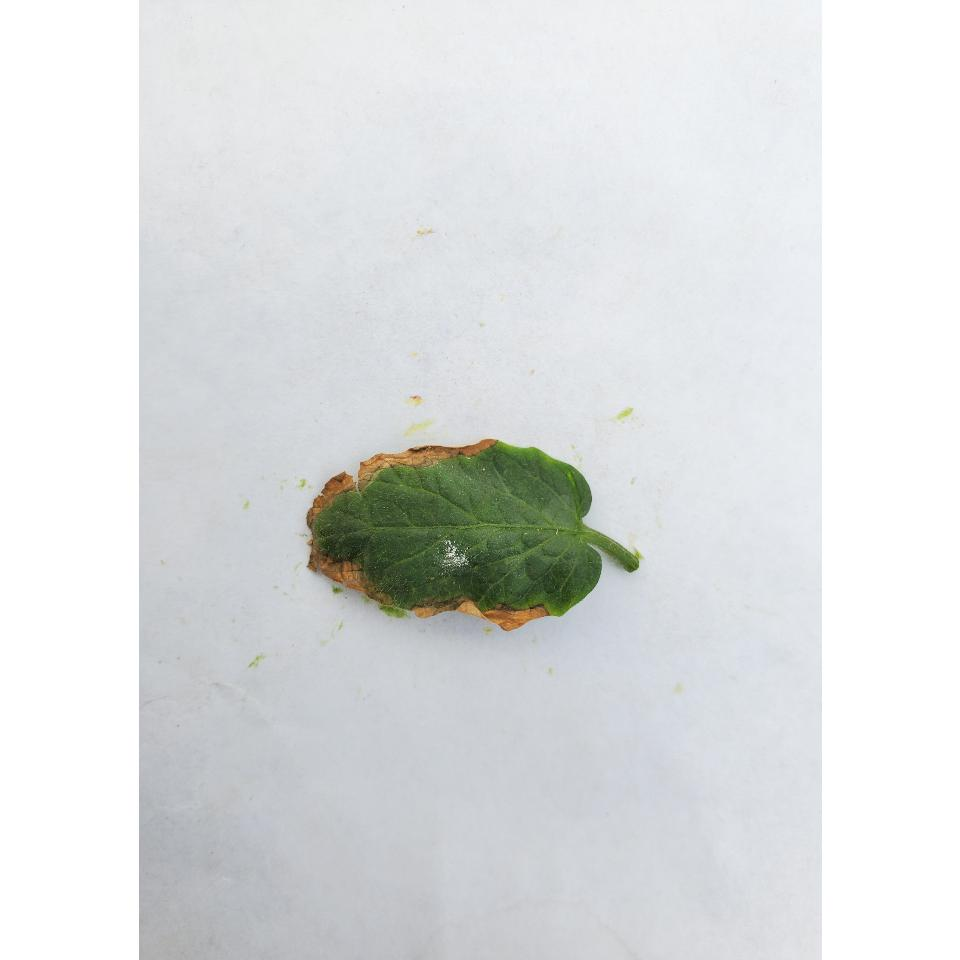tomato_bacterial_blight: (292, 431, 660, 633)
